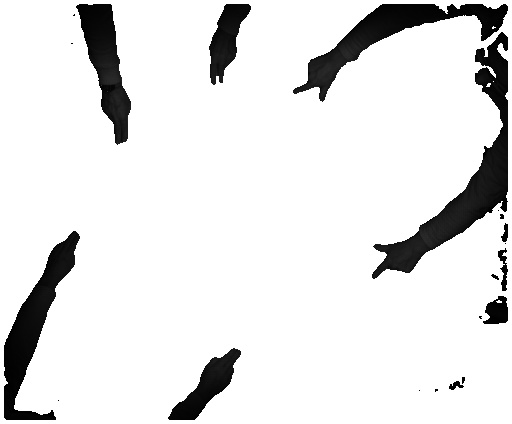hand: (288, 54, 346, 103), (201, 344, 247, 397), (368, 238, 427, 279), (103, 87, 135, 151), (47, 224, 79, 287), (208, 34, 239, 87)
